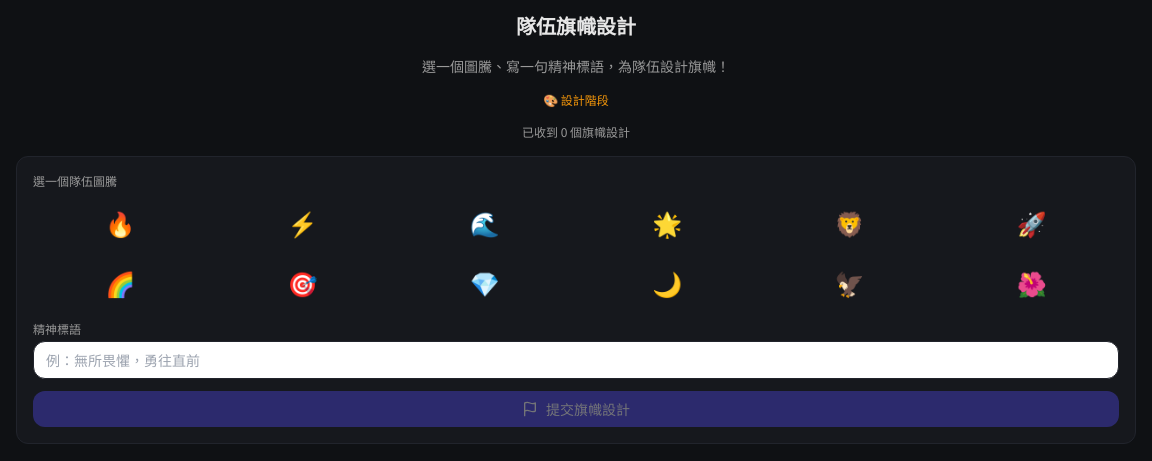
FlagDesign › 提交後呼叫 updateState 含 emoji 和 motto
Click the button with test id "fld-emoji-⚡" at (302, 223), box top-left (215, 197), bottom-right (390, 249)
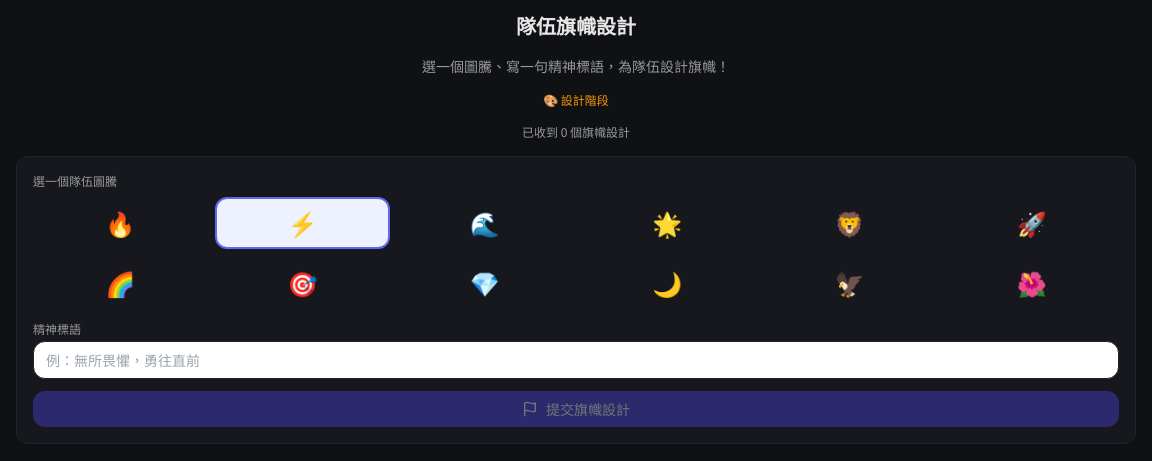
Type "閃電無敵" into the field with test id "fld-motto-input" at (576, 360), box top-left (33, 341), bottom-right (1119, 379)
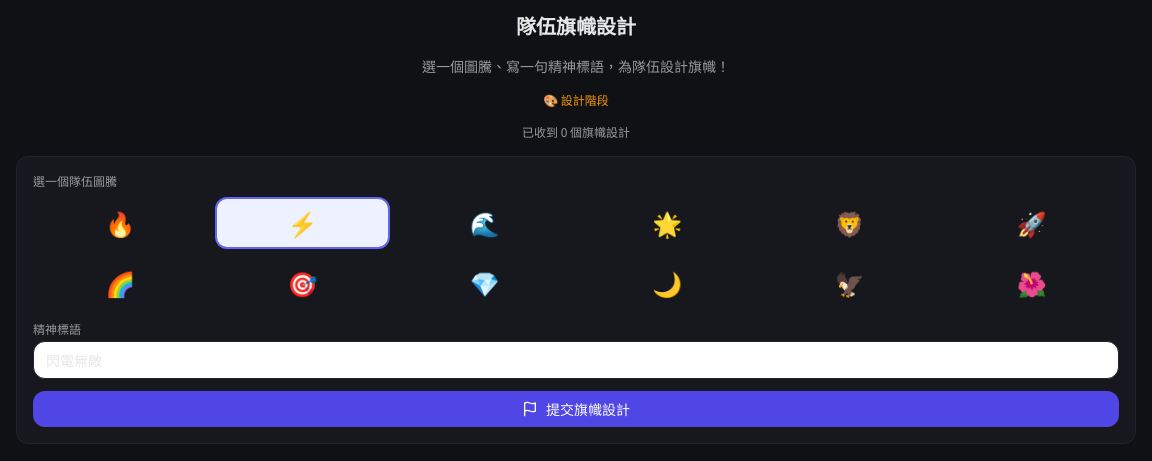
Click the button with test id "fld-submit-btn" at (576, 409), box top-left (33, 391), bottom-right (1119, 427)
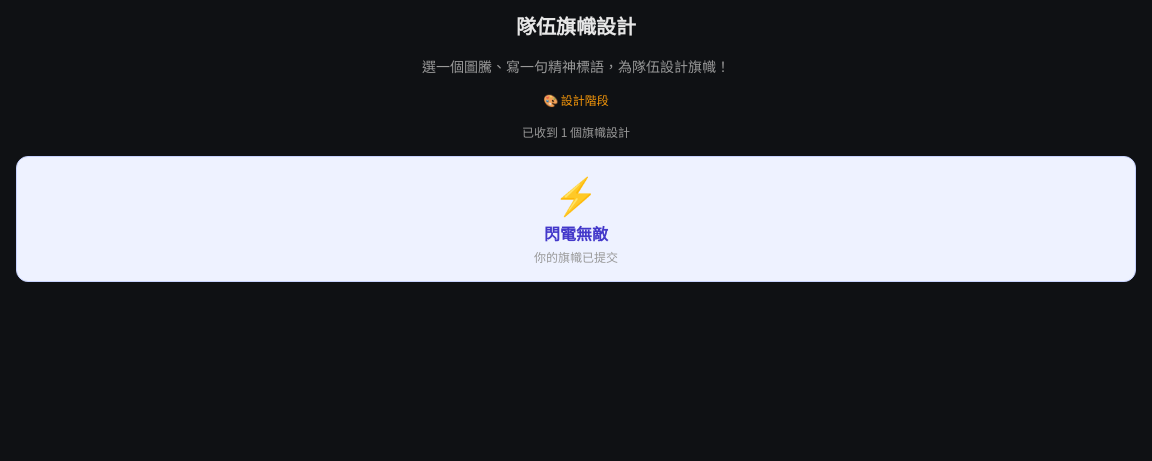
Result: the text "閃電無敵" is shown at top-left (544, 221), bottom-right (608, 245)
